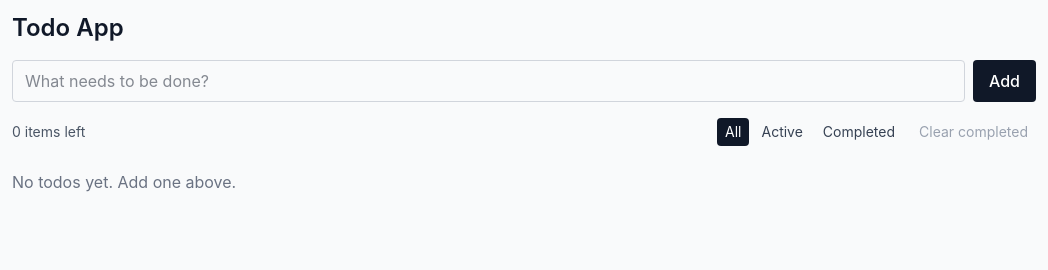
Test: TodoPage › completes and reactivates a todo, updating the remaining count
Type "Buy milk" into the field named "New todo" at (488, 81), box 12,60 -> 965,102
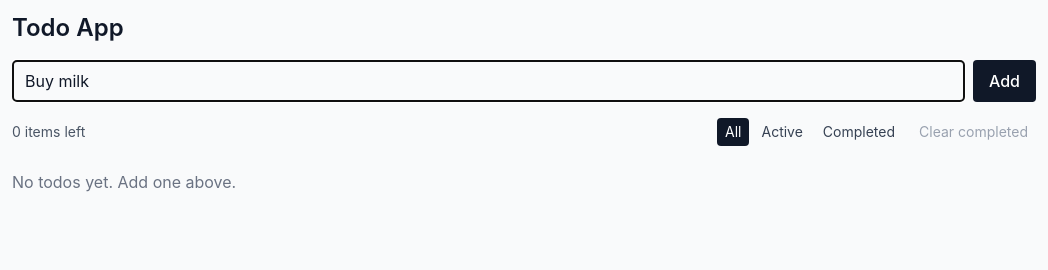
Click the button "Add" at (1004, 81), box 973,60 -> 1036,102
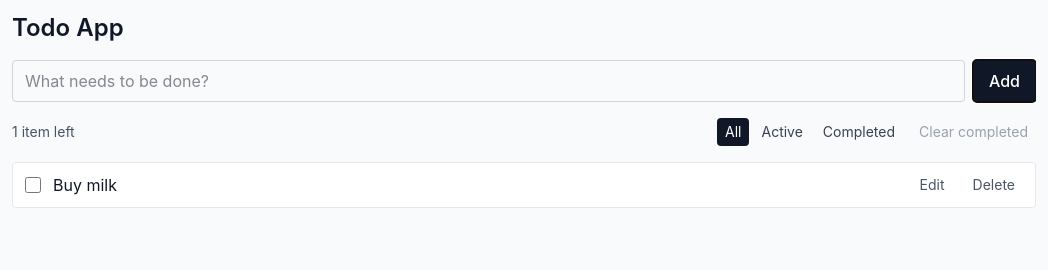
Type "Walk dog" into the field named "New todo" at (488, 81), box 12,60 -> 965,102
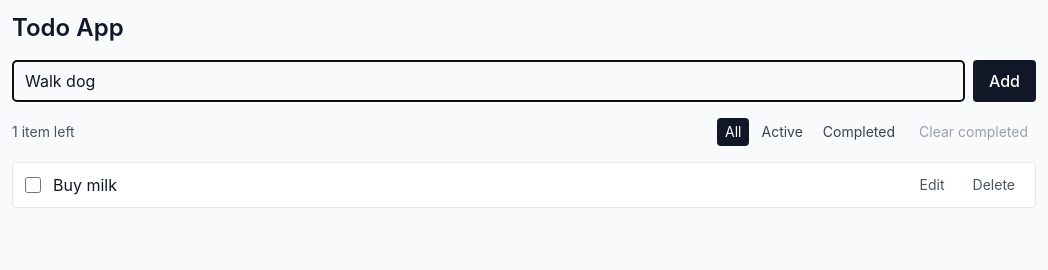
Click the button "Add" at (1004, 81), box 973,60 -> 1036,102
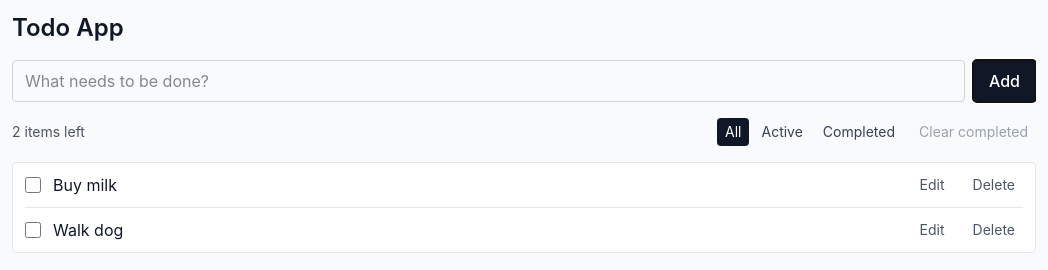
Click the checkbox named "Mark \"Buy milk\" as completed" at (33, 185), box 25,177 -> 41,193
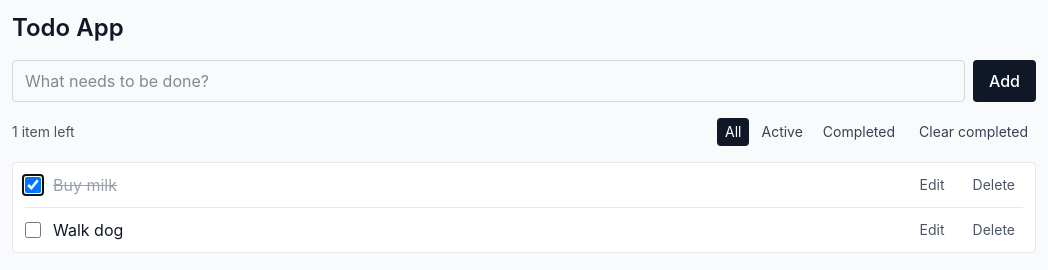
Expected: the checkbox named "Mark \"Buy milk\" as active" is checked
Expected: the text "1 item left" is shown, 12,122 -> 75,142
Click the checkbox named "Mark \"Buy milk\" as active" at (33, 185), box 25,177 -> 41,193
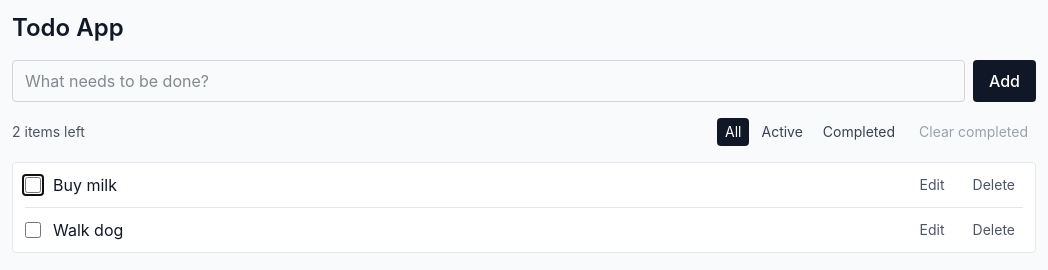
Expected: the checkbox named "Mark \"Buy milk\" as completed" is not checked, 25,177 -> 41,193
Expected: the text "2 items left" is shown, 12,122 -> 85,142
